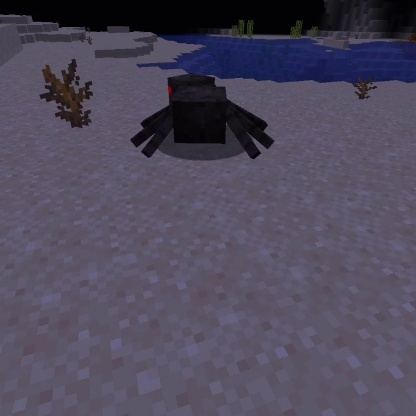spider: (128, 70, 278, 162)
